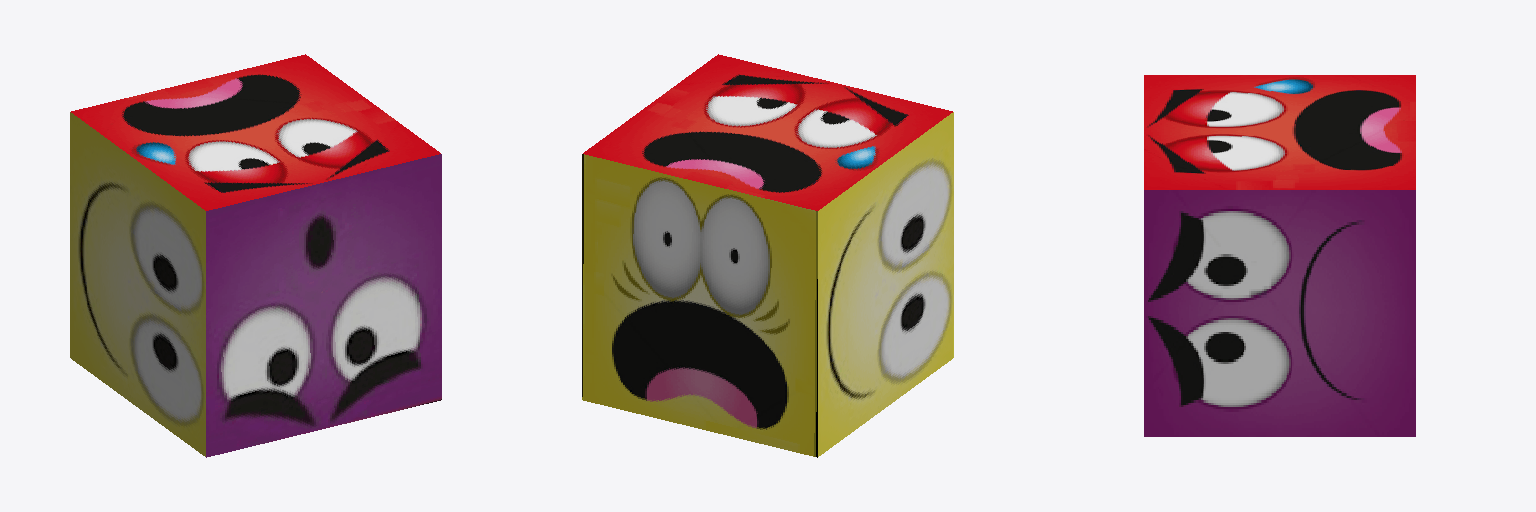
3 renders of one model, left to right at view 1: azimuth 30°, elevation 25°; view 2: azimuth 150°, elevation 25°; view 3: azimuth 270°, elevation 25°, orthographic.
Parts seen in each view (by area): view 1: Cube; view 2: Cube; view 3: Cube.
Boxes of the visible parts, x1,y1,x2,y2 form: Cube: [70, 54, 441, 457]; Cube: [582, 54, 953, 457]; Cube: [1144, 75, 1415, 436].
Bounding box in the file's own units: 2 × 2 × 2.
1 materials, 1 textured.